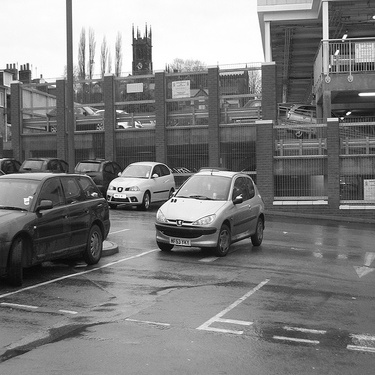car: (2, 171, 113, 287), (159, 169, 267, 255), (108, 156, 175, 209), (73, 155, 123, 202), (279, 98, 331, 143), (47, 95, 104, 135), (22, 147, 72, 185), (92, 104, 143, 135), (2, 152, 24, 177)
